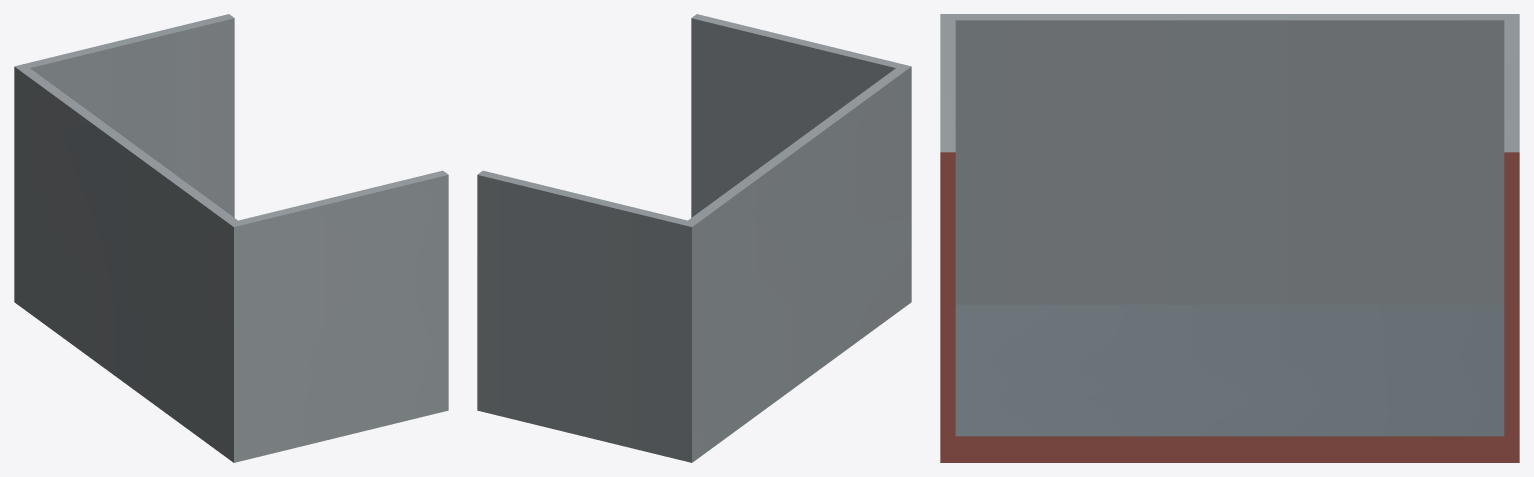
Rendered from truck interior 2.fbx.
3 renders of one model, left to right at view 1: azimuth 30°, elevation 25°; view 2: azimuth 150°, elevation 25°; view 3: azimuth 270°, elevation 25°, orthographic. The views are drawn at different scales.
Parts seen in each view (by area): view 1: Cube.003; view 2: Cube.003; view 3: Cube.003.
Part boxes in pixels (box(x1,y1,x2,y2)): Cube.003: box(14, 14, 448, 462); Cube.003: box(477, 14, 911, 462); Cube.003: box(940, 14, 1519, 462).
Size of the model in its own units: 191 by 200 by 338.
Materials: 1 (1 with a texture image).
